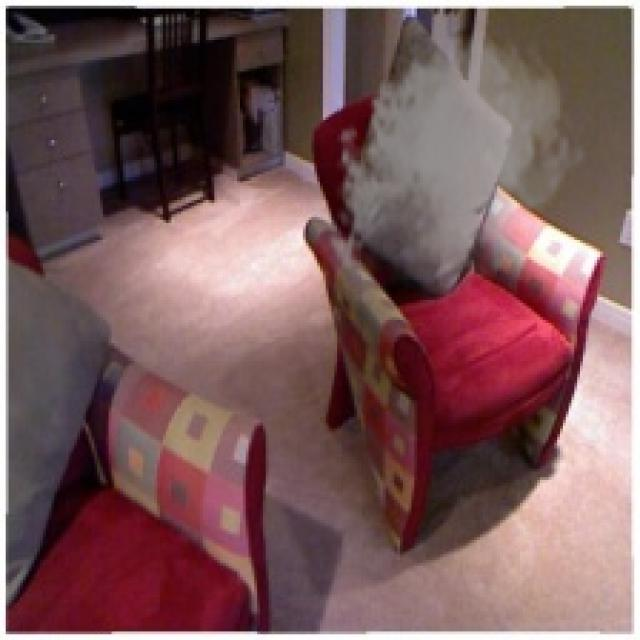smoke: (323, 25, 588, 308)
